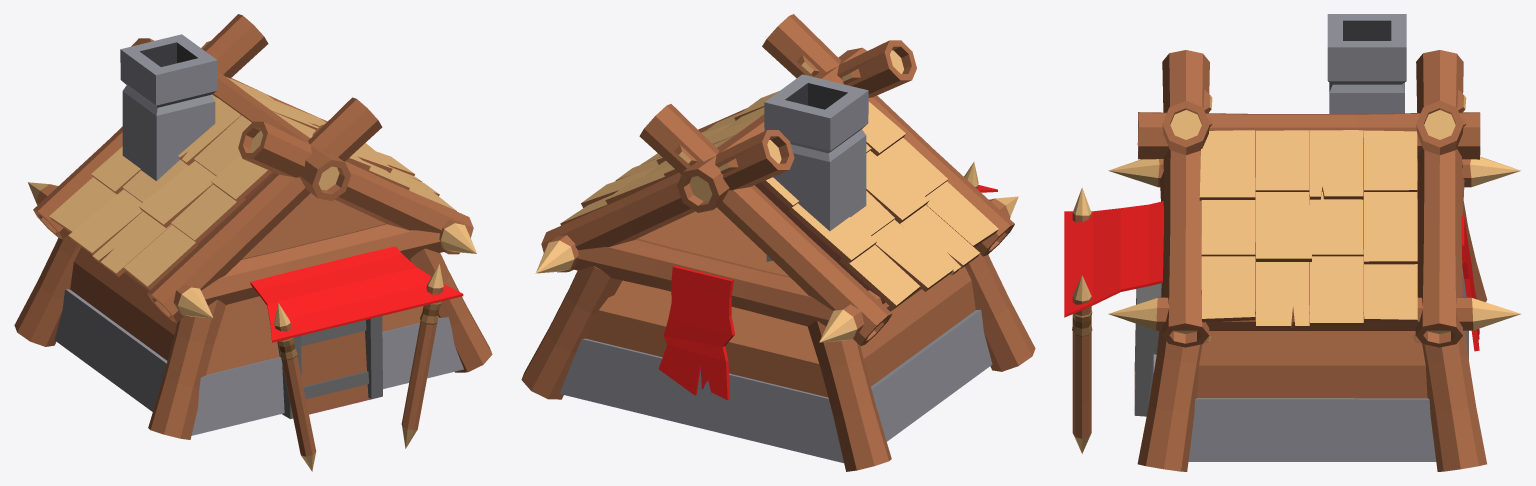
The model's file is OrcHouse.fbx.
The picture shows the model from 3 angles, left to right: view 1: azimuth 30°, elevation 25°; view 2: azimuth 150°, elevation 25°; view 3: azimuth 270°, elevation 25°; orthographic projection. The views are drawn at different scales.
Parts seen in each view (by area): view 1: OrcHouse; view 2: OrcHouse; view 3: OrcHouse.
Part boxes in pixels (<box>): OrcHouse: <box>14,14,492,471</box>; OrcHouse: <box>521,14,1035,471</box>; OrcHouse: <box>1064,14,1520,471</box>.
Size of the model in its own units: 20.89 by 19.25 by 21.9.
